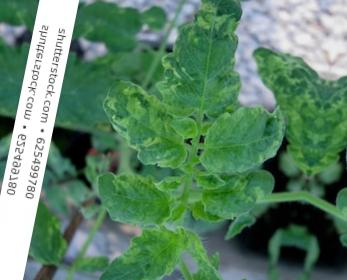Tomato leaf mosaic virus: (149, 0, 262, 135), (91, 78, 202, 173), (191, 95, 292, 194), (79, 164, 179, 234), (95, 209, 192, 280)
